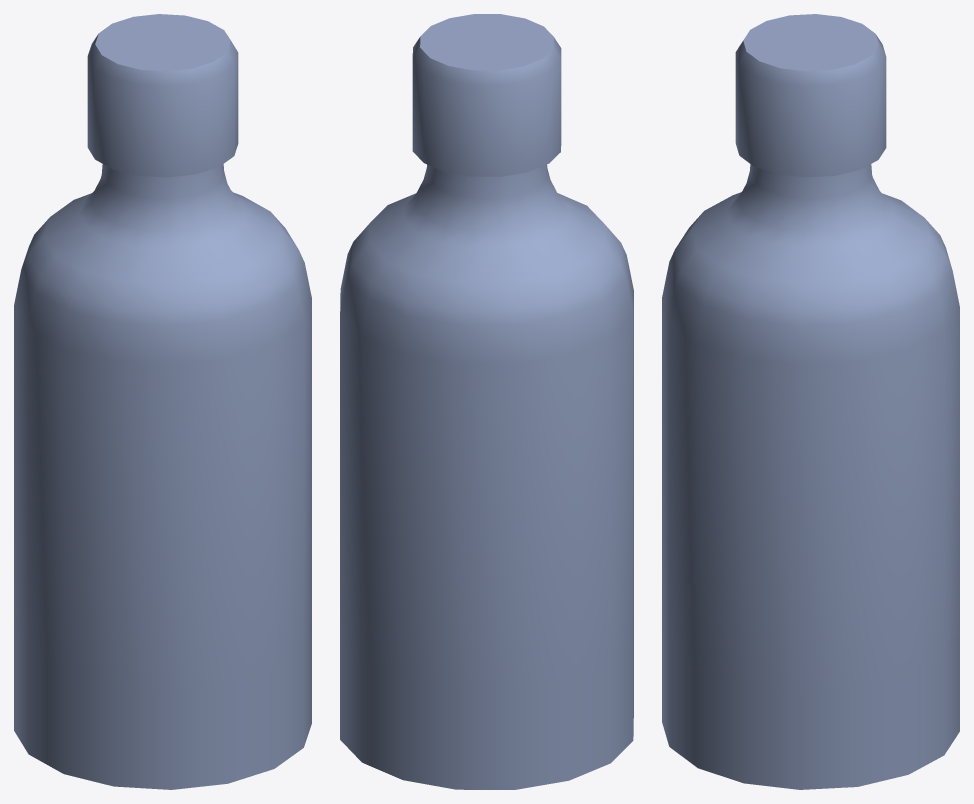
The picture shows the model from 3 angles, left to right: view 1: azimuth 30°, elevation 25°; view 2: azimuth 150°, elevation 25°; view 3: azimuth 270°, elevation 25°; orthographic projection.
Parts seen in each view (by area): view 1: TAG_bouteille1.001; view 2: TAG_bouteille1.001; view 3: TAG_bouteille1.001.
Boxes of the visible parts, x1,y1,x2,y2 form: TAG_bouteille1.001: (14,14,311,789); TAG_bouteille1.001: (340,14,633,789); TAG_bouteille1.001: (662,14,959,789).
Bounding box in the file's own units: 0.1381 × 0.1381 × 0.3503.
